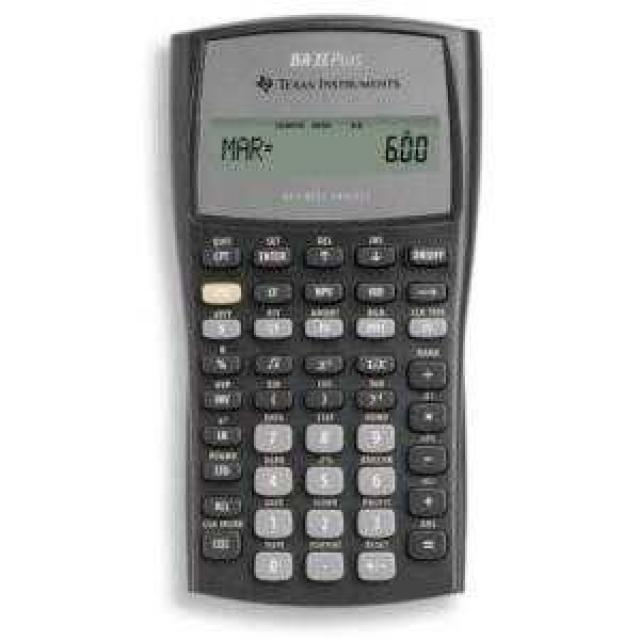Calculator: (162, 17, 476, 604)
